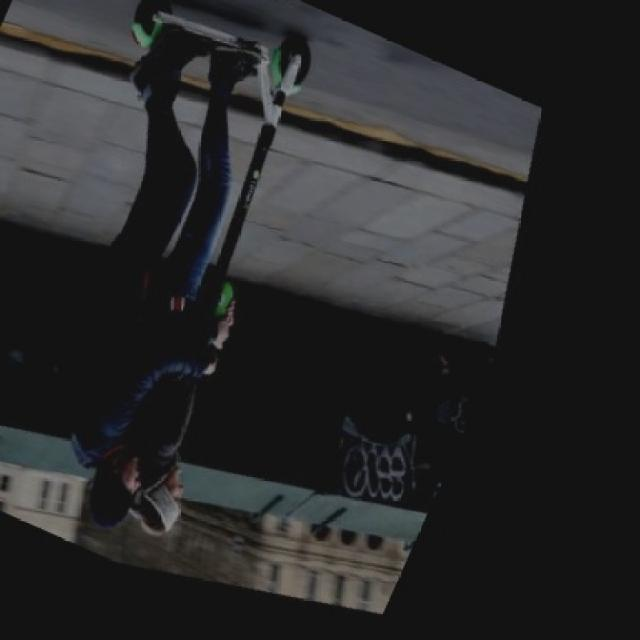bare_head: (67, 445, 151, 529), (131, 445, 197, 540)
human: (67, 13, 214, 539), (131, 33, 263, 535)
kickboard: (125, 0, 320, 118)
